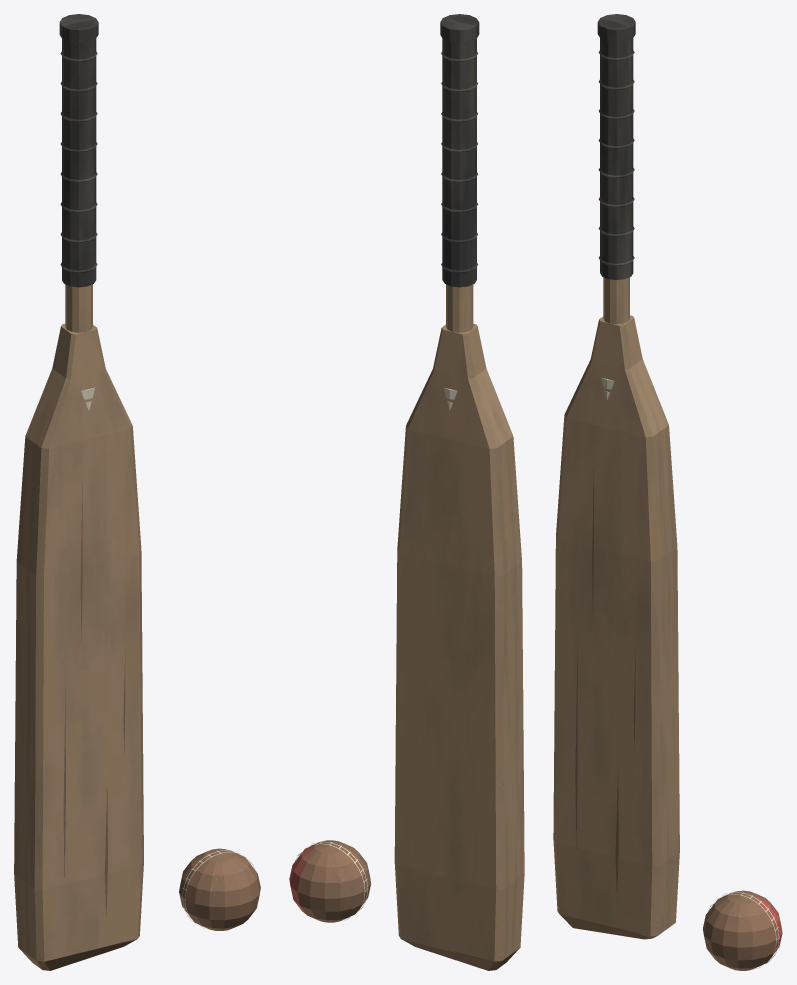
Rendered from SE03_cricket_bat_and_ball.glb.
The picture shows the model from 3 angles, left to right: view 1: azimuth 30°, elevation 25°; view 2: azimuth 150°, elevation 25°; view 3: azimuth 330°, elevation 25°; orthographic projection. The views are drawn at different scales.
Visible parts, largest first — view 1: Old willow blade; view 2: Old willow blade; view 3: Old willow blade.
Part boxes in pixels (bbox=[...]): Old willow blade: bbox=[14, 14, 260, 970]; Old willow blade: bbox=[289, 14, 524, 970]; Old willow blade: bbox=[553, 14, 782, 970].
Size of the model in its own units: 0.2279 by 0.9 by 0.0721.
Materials: 6 (6 with a texture image).
